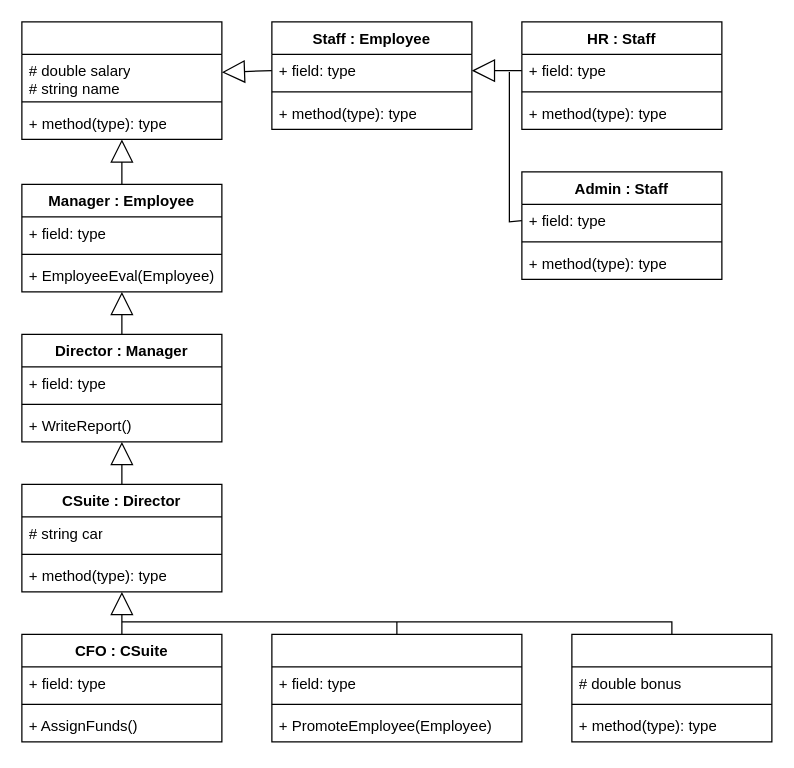
The diagram is 794 pixels wide and 768 high, and some of its shapes have lost their labels. Each missing label, with the box of its shape:
CEO : CSuite: (571, 633, 772, 742)
COO : CSuite: (271, 633, 522, 742)
Employee: (21, 21, 222, 139)
